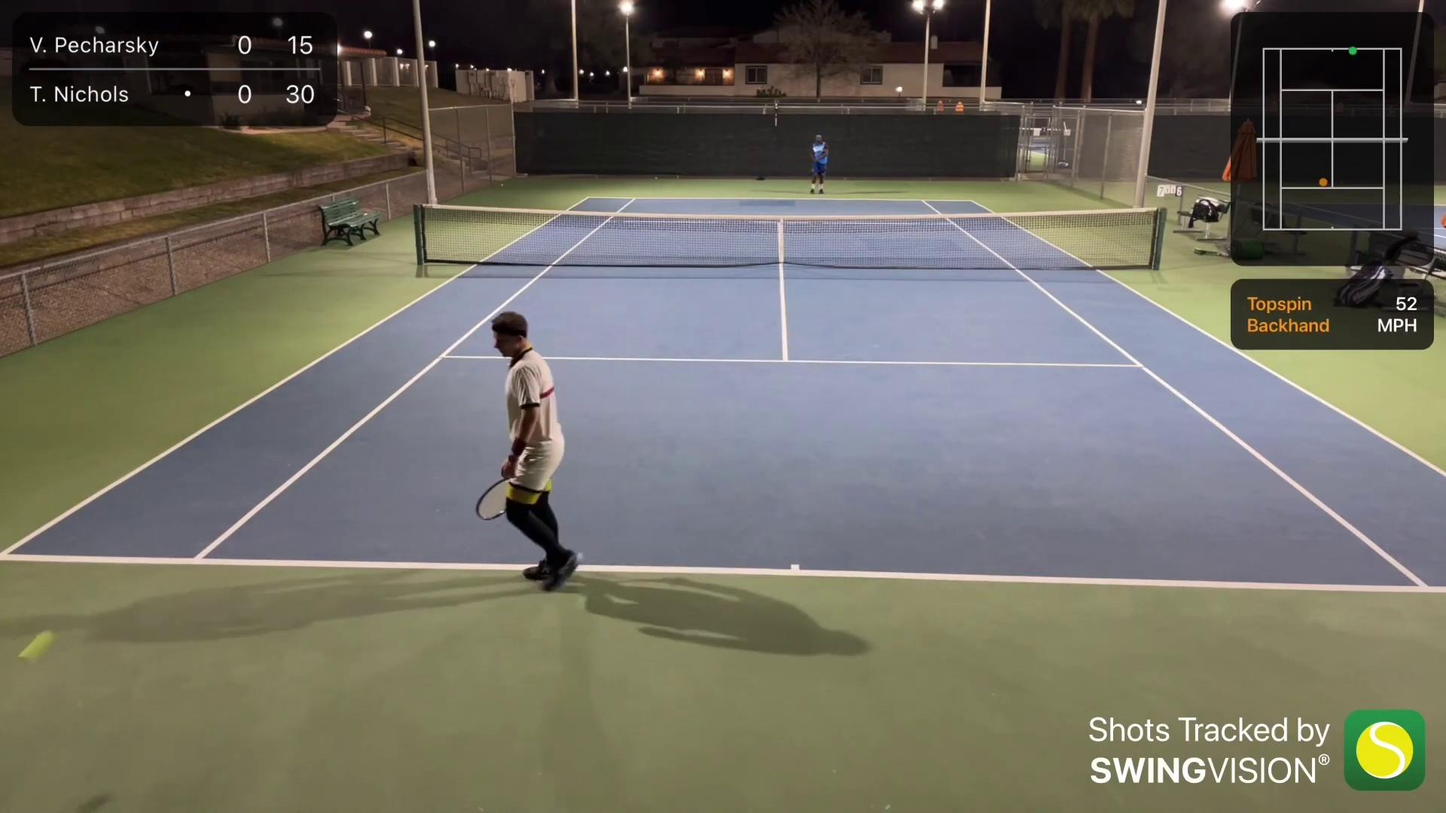ball: (21, 633, 45, 657)
